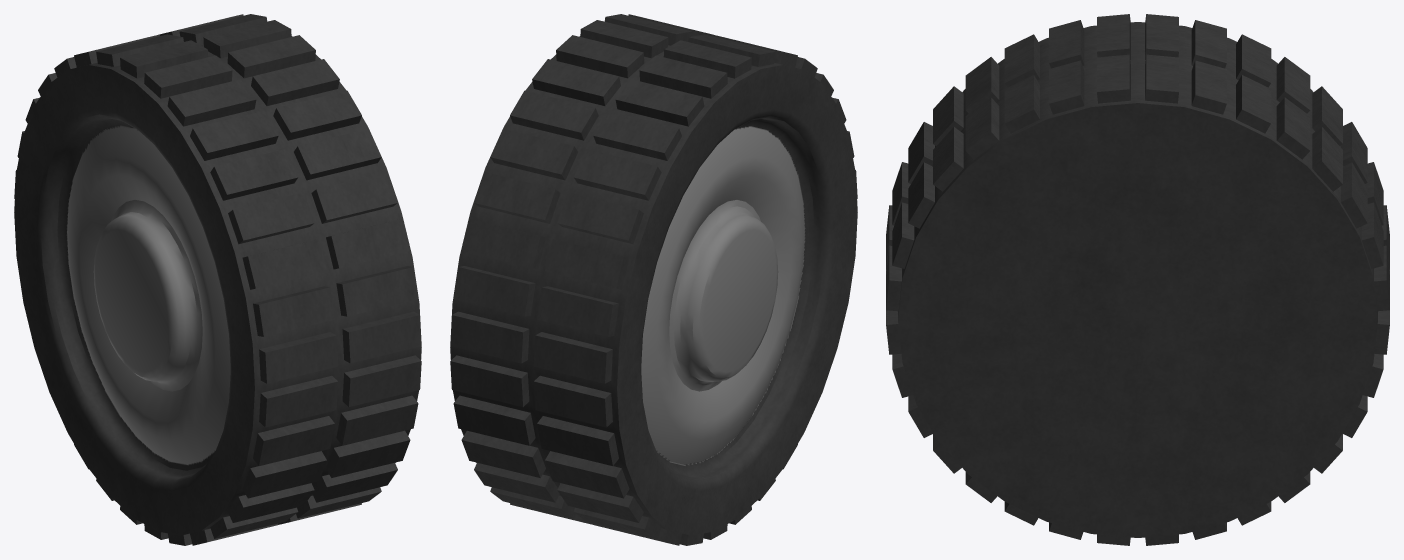
Rendered from wheel.fbx.
3 renders of one model, left to right at view 1: azimuth 30°, elevation 25°; view 2: azimuth 150°, elevation 25°; view 3: azimuth 270°, elevation 25°, orthographic.
Visible parts, largest first — view 1: bake; view 2: bake; view 3: bake.
Part boxes in pixels (left/top/right/bottom): bake: left=14, top=14, right=421, bottom=545; bake: left=450, top=14, right=857, bottom=545; bake: left=886, top=14, right=1389, bottom=545.
Size of the model in its own units: 48.68 by 126 by 126.
1 material, 1 textured.
